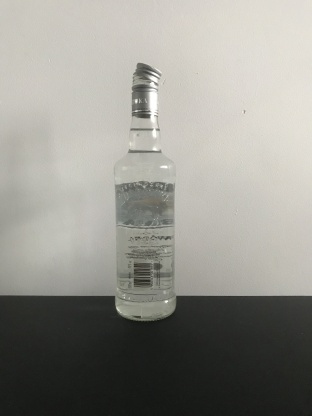nakretka: (129, 60, 163, 118)
